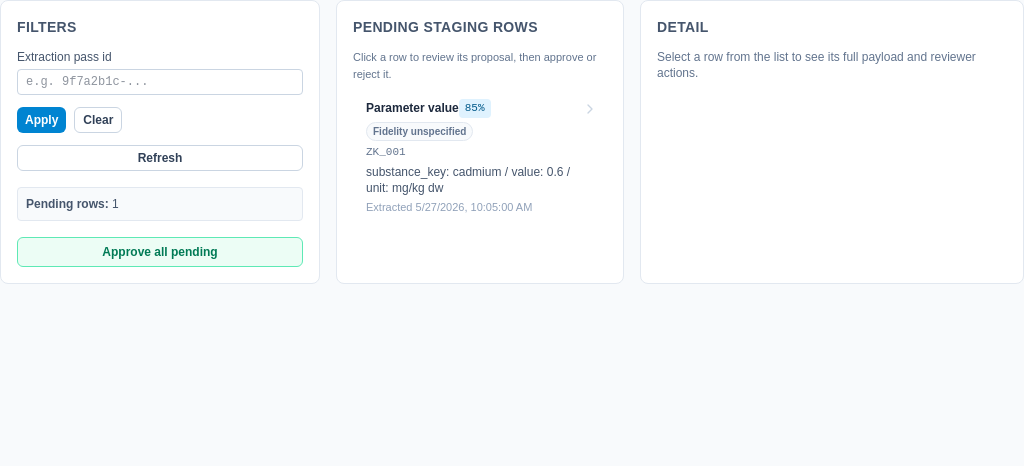
Test: CatalogStagingReview › admin sees Approve and Reject buttons after selecting a row
The width and height of the screenshot is (1024, 466).
Click the button with test id "staging-row-staging-1": [480, 157] box [353,90,607,223]
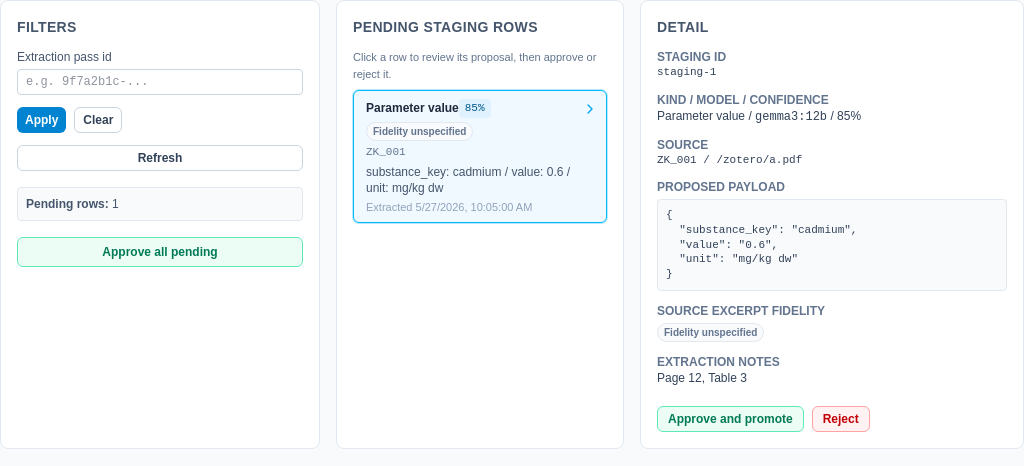
Now the button with test id "staging-action-approve" is shown, box [657,406,804,432]
Now the button with test id "staging-action-reject" is shown, box [812,406,870,432]
